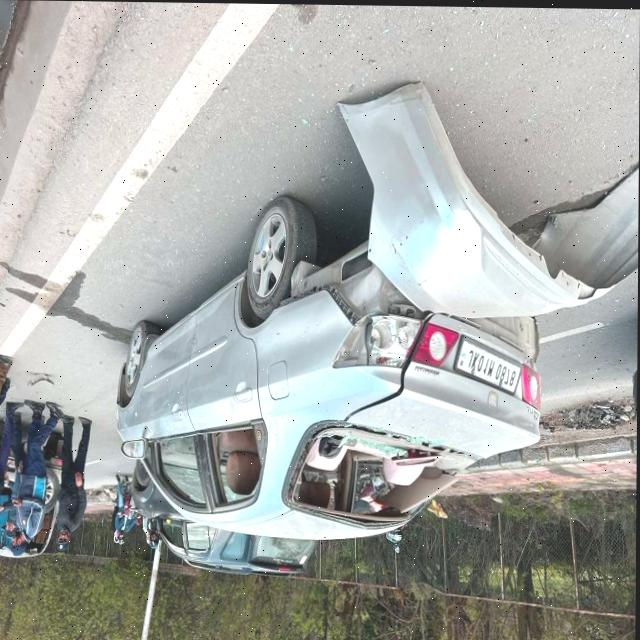plate: (455, 328, 525, 403)
